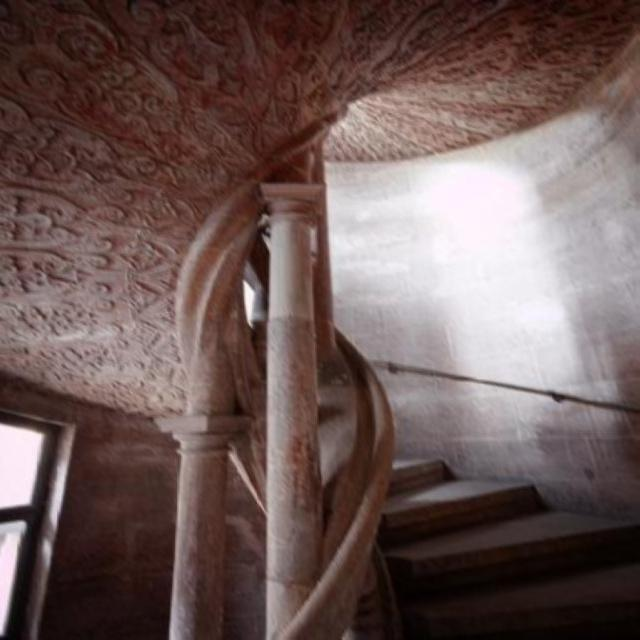stair: (376, 452, 640, 640)
